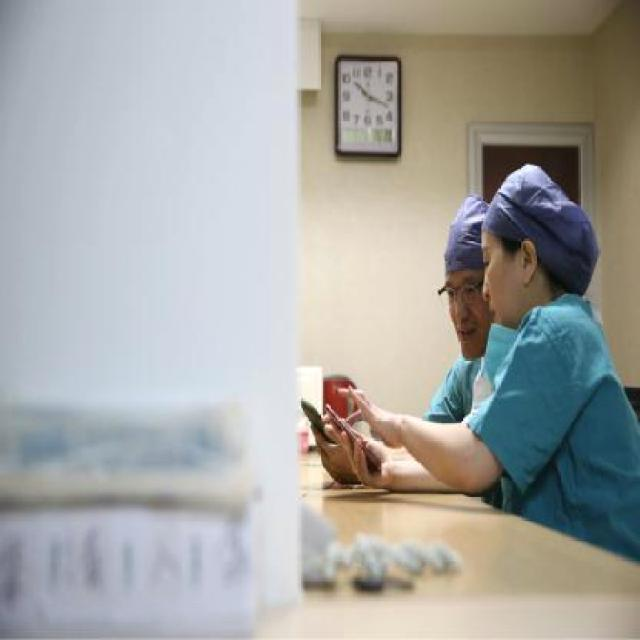face_nomask: (472, 234, 528, 326), (440, 275, 485, 360)
glasses: (434, 280, 481, 306)
hand_noglove: (331, 412, 397, 494), (335, 384, 400, 448), (310, 411, 352, 482)
head_nohelmet: (478, 164, 580, 258), (441, 202, 499, 283)
person: (464, 184, 640, 544)
